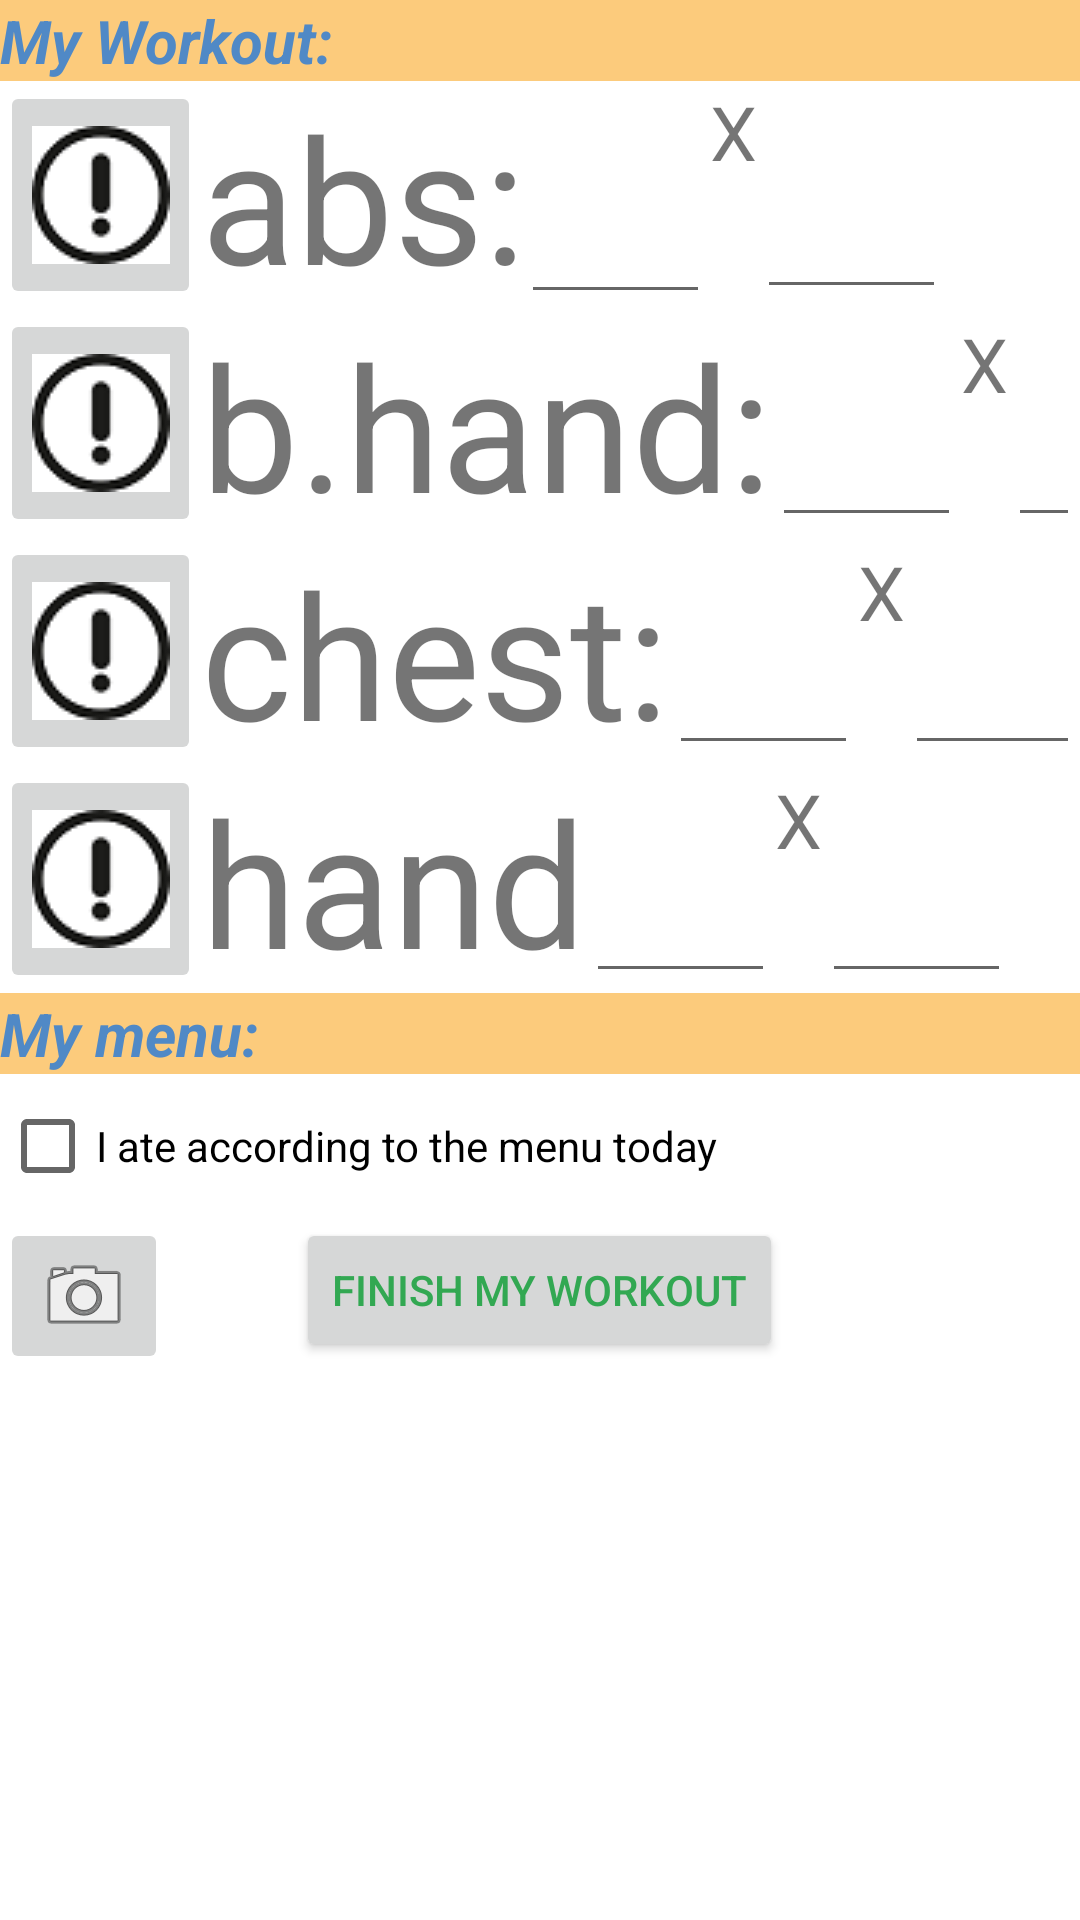

Point at icon controls on the screen. Image size 1080*1920, points as (x,y).
camera: (84,1296)
